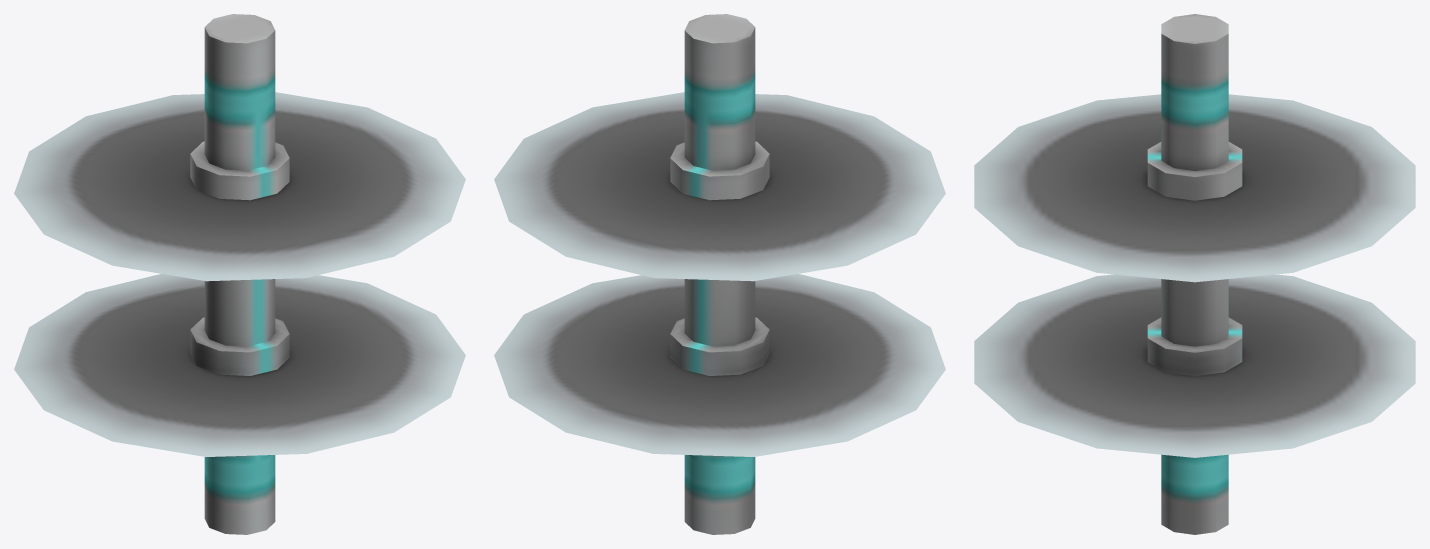
File: Obstacle_02.fbx
3 renders of one model, left to right at view 1: azimuth 30°, elevation 25°; view 2: azimuth 150°, elevation 25°; view 3: azimuth 270°, elevation 25°, orthographic.
Parts seen in each view (by area): view 1: Obstacle_02; view 2: Obstacle_02; view 3: Obstacle_02.
Boxes of the visible parts, box(x1,y1,x2,y2) form: Obstacle_02: box(14, 14, 465, 534); Obstacle_02: box(494, 14, 945, 534); Obstacle_02: box(974, 14, 1415, 534).
Size of the model in its own units: 2.82 by 3.37 by 2.75.
1 material, 1 textured.
